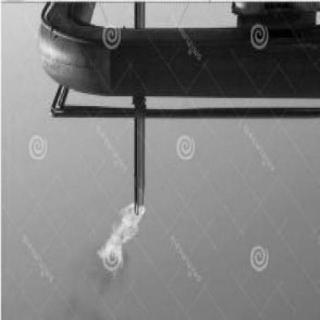Fire: (92, 198, 152, 290)
